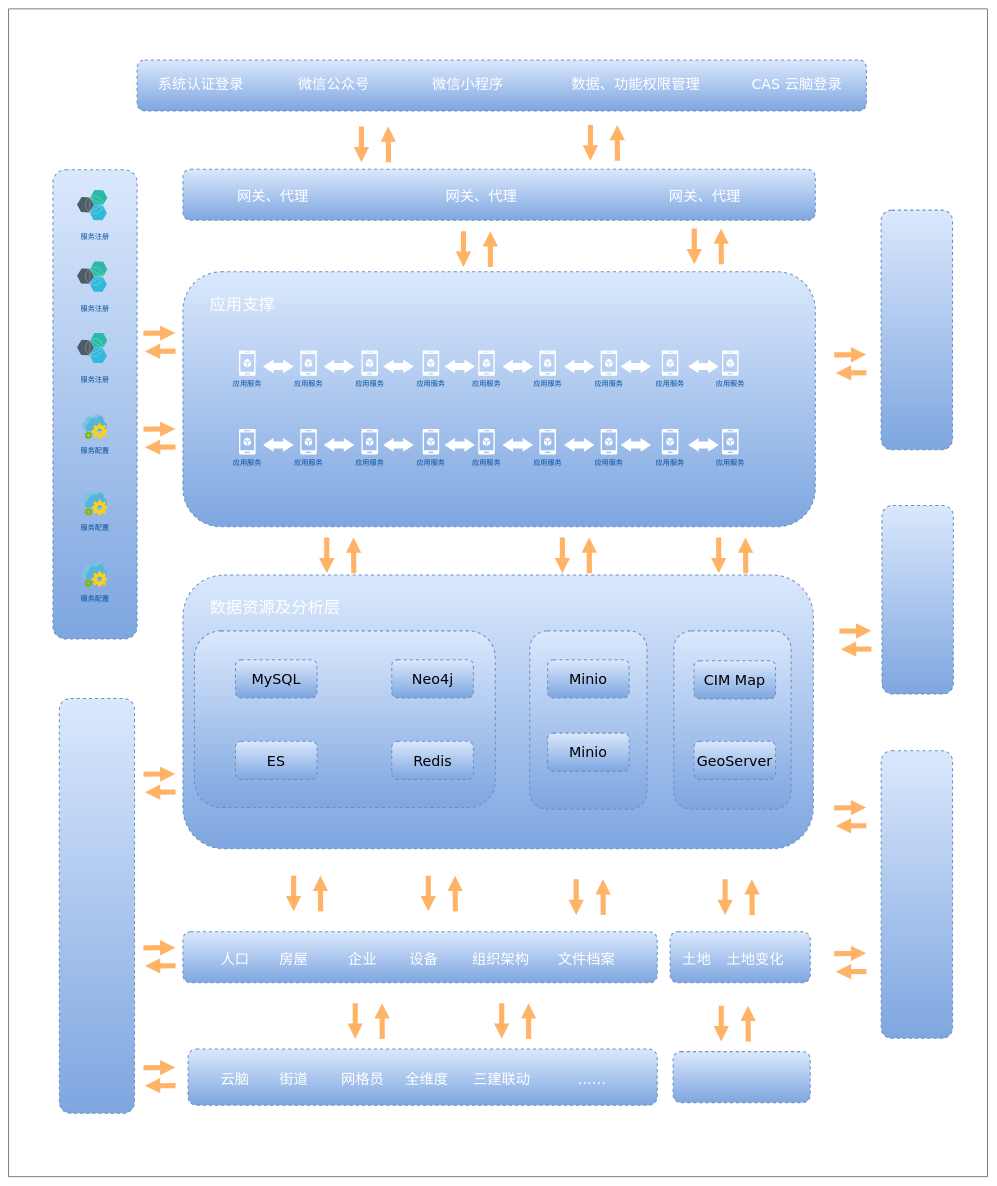
The diagram is 997 pixels wide and 1186 high, and some of its shapes have lost their labels. The centre of each missing label's shape, as x and y in pixels:
"E L K 日志聚合系统" goes at pixel 916 894.
"任务调度" goes at pixel 917 599.
"商汤遥感 卫星数据" goes at pixel 741 1077.
"大数据资源目录" goes at pixel 97 906.
"消息队列中间件" goes at pixel 916 329.
